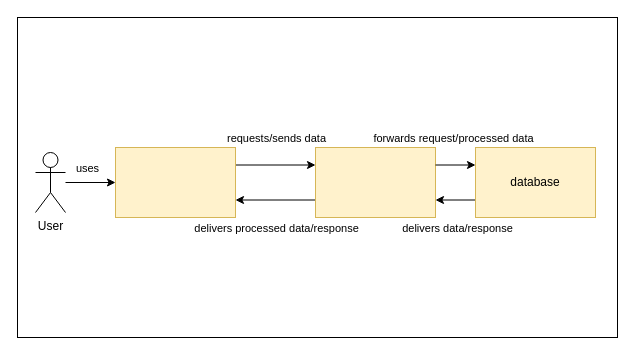
This 635x355 diagram has some shape labels left out. Each missing label, with the centre of its shape:
database connector/server: the point at 375,182
Letsevent app: the point at 175,182
